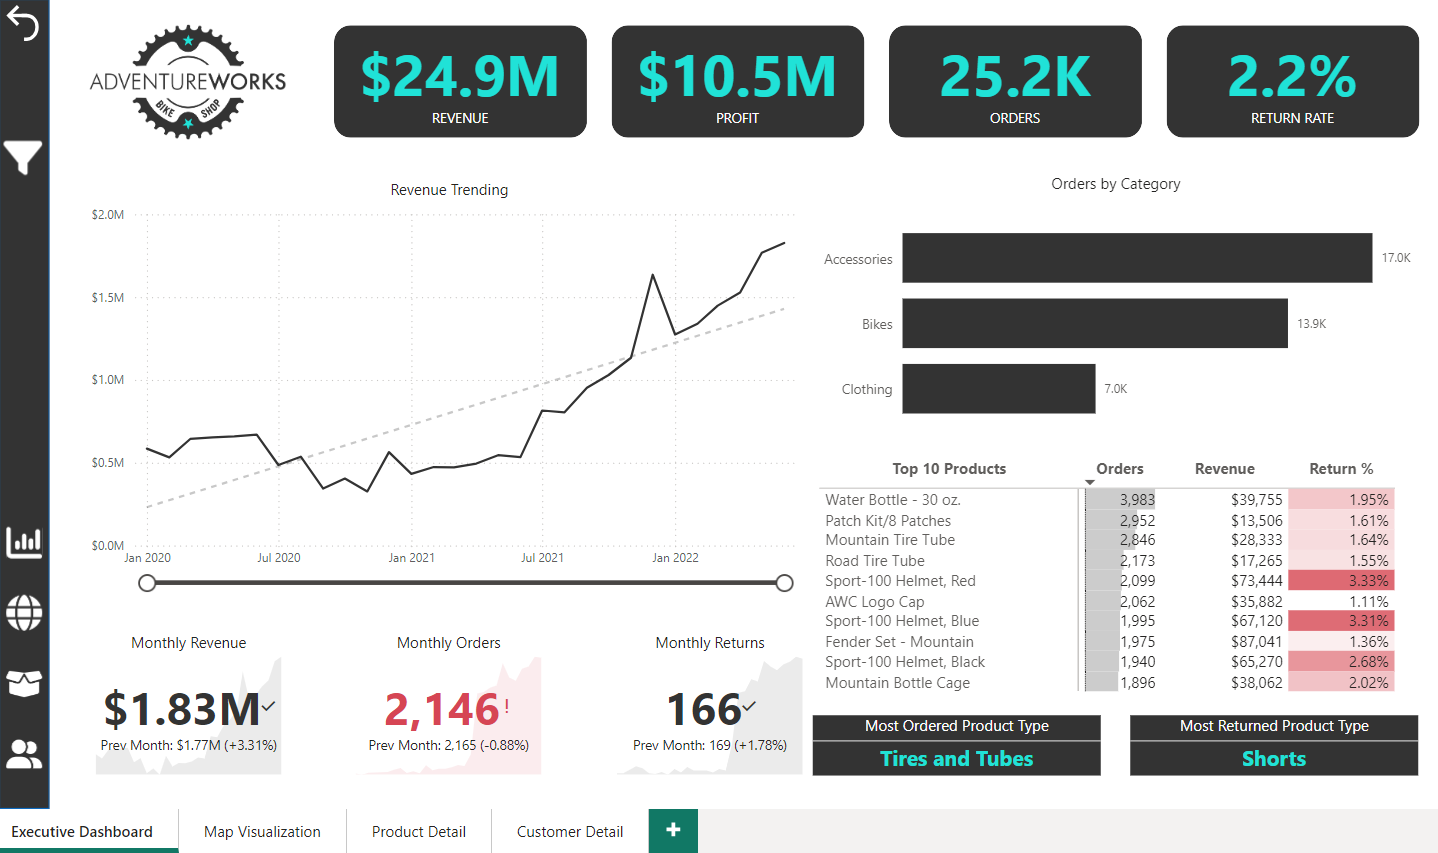

This screenshot's page, from the dashboard's own definition file:
{"tool":"powerbi","page":{"name":"Exec Dashboard","canvas":[1280,720],"ordinal":0},"visuals":[{"type":"image","title":"AW Logo","box":[56.2,12.5,223.8,122.5],"z":0},{"type":"card","fields":{"Values":["Measure Table.Total Revenue"]},"box":[305,12.5,208.8,122.5],"z":0,"group":"g2"},{"type":"group","id":"g1","title":"KPI Backgrounds","box":[297.5,23.7,965,100],"z":0,"group":"g3"},{"type":"shape","box":[297.5,23.7,225,100],"z":0,"group":"g1"},{"type":"actionButton","box":[0,463.8,45,40],"z":0,"group":"g4"},{"type":"shape","title":"Left Nav Background","box":[0,0,45,720],"z":1000},{"type":"group","id":"g2","title":"KPI Values","box":[305,12.5,948.8,122.5],"z":1000,"group":"g3"},{"type":"card","fields":{"Values":["Measure Table.Total Profit"]},"box":[551.7,12.5,208.8,122.5],"z":1000,"group":"g2"},{"type":"shape","box":[544.2,23.7,225,100],"z":1000,"group":"g1"},{"type":"actionButton","box":[0,526.3,45,40],"z":1000,"group":"g4"},{"type":"group","id":"g3","title":"KPIs","box":[297.5,12.5,965,122.5],"z":2000},{"type":"card","fields":{"Values":["Measure Table.Total Orders"]},"box":[798.3,12.5,208.8,122.5],"z":2000,"group":"g2"},{"type":"shape","box":[790.8,23.7,225,100],"z":2000,"group":"g1"},{"type":"actionButton","box":[0,588.8,45,40],"z":2000,"group":"g4"},{"type":"card","fields":{"Values":["Measure Table.Return Rate"]},"box":[1045,12.5,208.8,122.5],"z":3000,"group":"g2"},{"type":"shape","box":[1037.5,23.7,225,100],"z":3000,"group":"g1"},{"type":"lineChart","title":"Revenue Trending","fields":{"Y":["Measure Table.Total Revenue"],"Category":["Calendar Lookup.Year","Calendar Lookup.Start of Quarter","Calendar Lookup.Start of Month"]},"box":[76.2,160,647.5,370],"z":3000},{"type":"actionButton","box":[0,651.3,45,40],"z":3000,"group":"g4"},{"type":"kpi","title":"Monthly Revenue","fields":{"Indicator":["Measure Table.Total Revenue"],"TrendLine":["Calendar Lookup.Start of Month"],"Goal":["Measure Table.Previous Month Revenue"]},"box":[81.4,561.8,175,132.5],"z":4000},{"type":"kpi","title":"Monthly Orders","fields":{"TrendLine":["Calendar Lookup.Start of Month"],"Indicator":["Measure Table.Total Orders"],"Goal":["Measure Table.Previous Month Orders"]},"box":[312.7,561.8,175,132.5],"z":5000},{"type":"kpi","title":"Monthly Returns","fields":{"TrendLine":["Calendar Lookup.Start of Month"],"Indicator":["Measure Table.Total Returns"],"Goal":["Measure Table.Previous Month Returns"]},"box":[543.9,561.8,175,132.5],"z":6000},{"type":"clusteredBarChart","title":"Orders by Category","fields":{"Category":["Product Categories Lookup.CategoryName"],"Y":["Measure Table.Total Orders"]},"box":[723.9,154.4,539.3,244.9],"z":7000},{"type":"pivotTable","title":"Top 10 Products","fields":{"Rows":["Product Lookup.ProductName"],"Values":["Measure Table.Total Orders","Measure Table.Total Revenue","Measure Table.Return Rate"]},"box":[724.3,402.9,538.6,217.1],"z":8000},{"type":"card","title":"Most Ordered Product Type","fields":{"Values":["Min(Product Subcategories Lookup.SubcategoryName)"]},"box":[723.2,636.2,256.2,53.8],"z":9000},{"type":"card","title":"Most Returned Product Type","fields":{"Values":["Min(Product Subcategories Lookup.SubcategoryName)"]},"box":[1005.7,636.2,256.2,53.8],"z":10000},{"type":"actionButton","box":[0,0,45,42.5],"z":11000},{"type":"group","id":"g4","title":"Navigation Buttons","box":[0,463.8,45,227.5],"z":12000},{"type":"actionButton","box":[0,120,45,42.5],"z":13000}]}

Visuals, with their boxes on the page's 1280x720 design canvas (x1, y1, x2, y2). These are canvas units, not pixel positions in the 1438x853 screenshot, which may show the page scaled, cropped or inside an application window:
"AW Logo" image: [left=56, top=12, right=280, bottom=135]
card - Measure Table.Total Revenue: [left=305, top=12, right=514, bottom=135]
"KPI Backgrounds" group: [left=298, top=24, right=1262, bottom=124]
shape: [left=298, top=24, right=522, bottom=124]
actionButton: [left=0, top=464, right=45, bottom=504]
"Left Nav Background" shape: [left=0, top=0, right=45, bottom=720]
"KPI Values" group: [left=305, top=12, right=1254, bottom=135]
card - Measure Table.Total Profit: [left=552, top=12, right=760, bottom=135]
shape: [left=544, top=24, right=769, bottom=124]
actionButton: [left=0, top=526, right=45, bottom=566]
"KPIs" group: [left=298, top=12, right=1262, bottom=135]
card - Measure Table.Total Orders: [left=798, top=12, right=1007, bottom=135]
shape: [left=791, top=24, right=1016, bottom=124]
actionButton: [left=0, top=589, right=45, bottom=629]
card - Measure Table.Return Rate: [left=1045, top=12, right=1254, bottom=135]
shape: [left=1038, top=24, right=1262, bottom=124]
"Revenue Trending" lineChart: [left=76, top=160, right=724, bottom=530]
actionButton: [left=0, top=651, right=45, bottom=691]
"Monthly Revenue" kpi: [left=81, top=562, right=256, bottom=694]
"Monthly Orders" kpi: [left=313, top=562, right=488, bottom=694]
"Monthly Returns" kpi: [left=544, top=562, right=719, bottom=694]
"Orders by Category" clusteredBarChart: [left=724, top=154, right=1263, bottom=399]
"Top 10 Products" pivotTable: [left=724, top=403, right=1263, bottom=620]
"Most Ordered Product Type" card: [left=723, top=636, right=979, bottom=690]
"Most Returned Product Type" card: [left=1006, top=636, right=1262, bottom=690]
actionButton: [left=0, top=0, right=45, bottom=42]
"Navigation Buttons" group: [left=0, top=464, right=45, bottom=691]
actionButton: [left=0, top=120, right=45, bottom=162]
